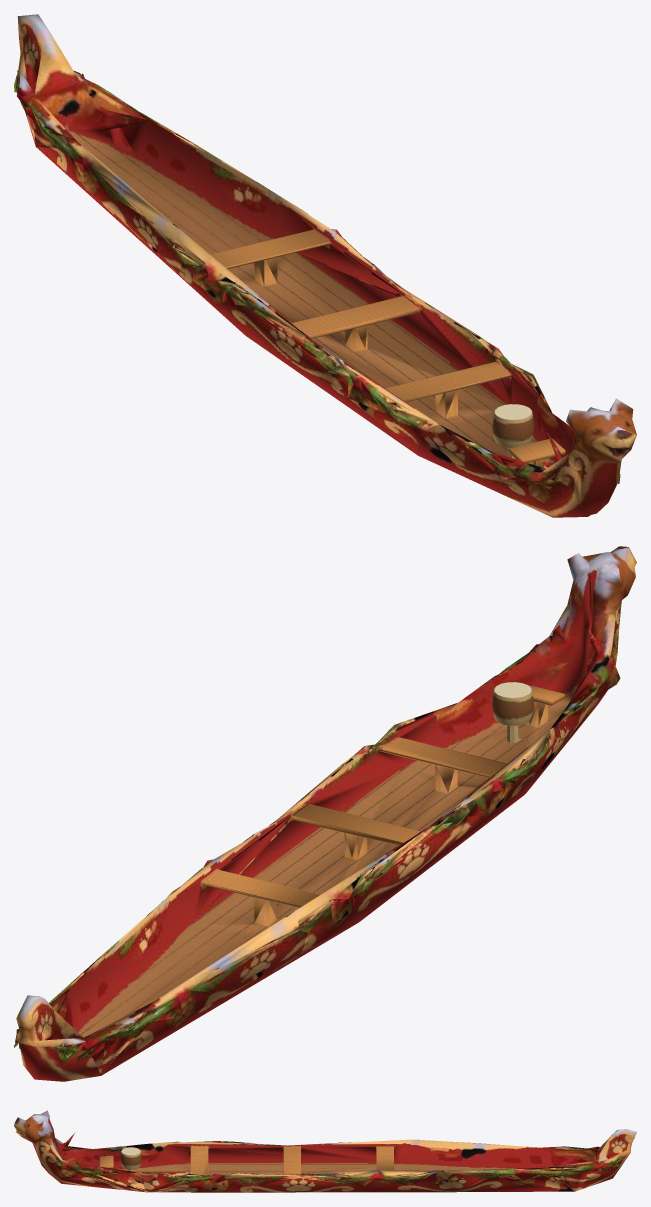
File: Boat_Bear.glb
3 views of the same model, one above another, from view 1: azimuth 30°, elevation 25°; view 2: azimuth 150°, elevation 25°; view 3: azimuth 270°, elevation 25° (orthographic). The views are drawn at different scales.
Parts seen in each view (by area): view 1: Boat_Bear, Drum; view 2: Boat_Bear, Drum; view 3: Boat_Bear, Drum.
Boxes of the visible parts, bbox=[...] form: Boat_Bear: bbox=[14, 14, 636, 517]; Drum: bbox=[492, 404, 534, 458]; Boat_Bear: bbox=[14, 546, 636, 1081]; Drum: bbox=[492, 682, 533, 742]; Boat_Bear: bbox=[14, 1110, 636, 1192]; Drum: bbox=[120, 1147, 141, 1171].
Size of what is drawn, in the model's own units: 1.57 by 1.4 by 11.4.
1 material, 1 textured.
